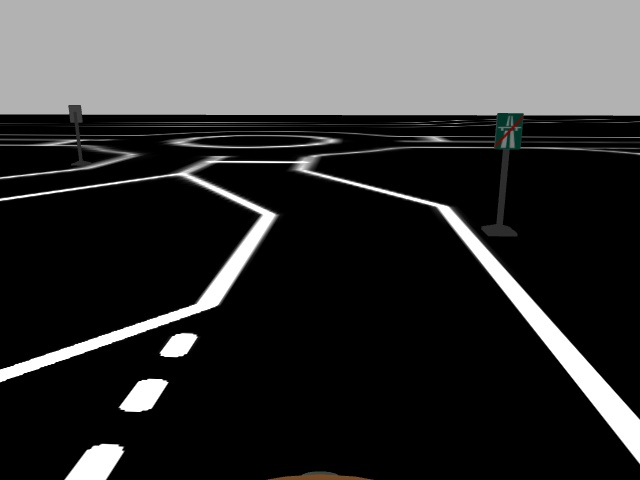leave_highway: (491, 113, 525, 150)
